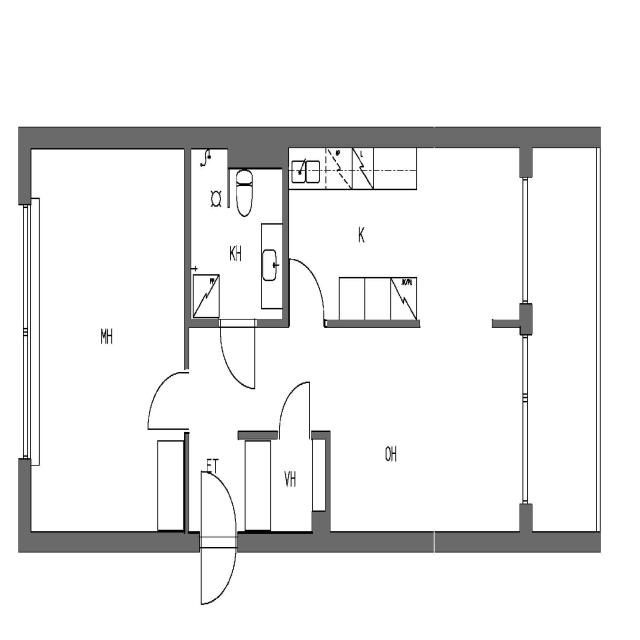door: (190, 462, 235, 606), (277, 240, 331, 333), (213, 309, 265, 399), (144, 364, 191, 436), (276, 368, 318, 439)
window: (6, 190, 45, 466), (518, 326, 536, 516), (520, 170, 534, 308)
zone: (25, 137, 186, 549), (284, 135, 524, 322), (326, 324, 526, 546), (186, 131, 283, 326), (244, 433, 320, 544)
